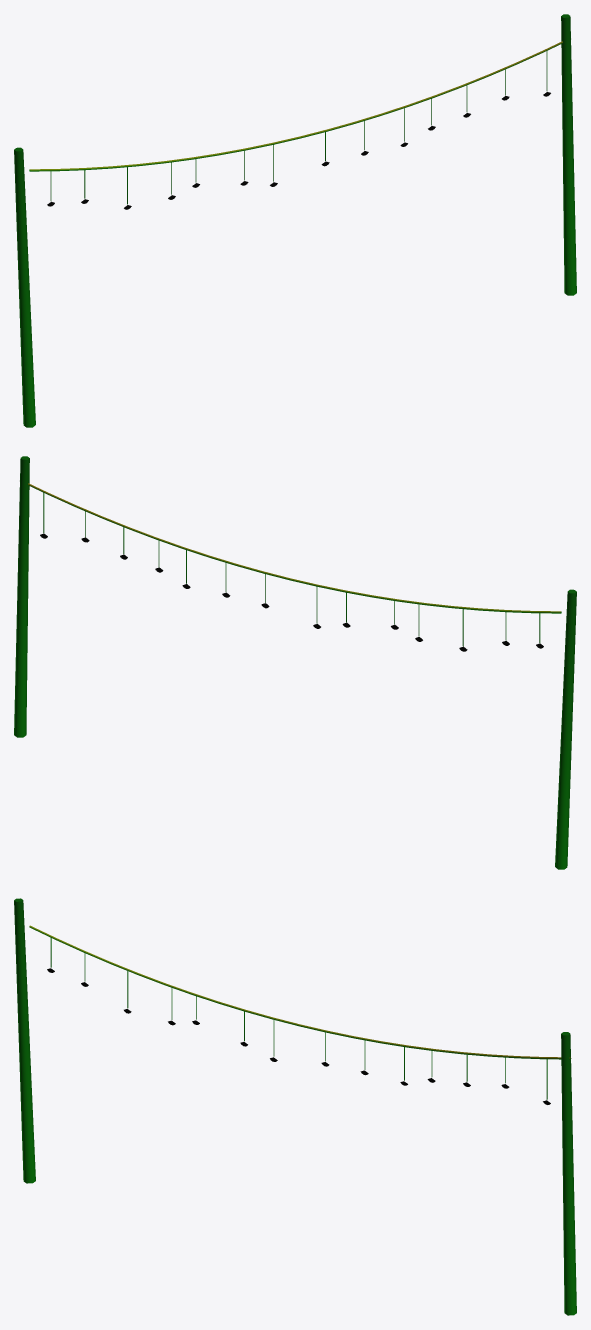
Rendered from name_shell_cord.glb.
3 views of the same model, one above another, from view 1: azimuth 30°, elevation 25°; view 2: azimuth 150°, elevation 25°; view 3: azimuth 330°, elevation 25° (orthographic).
Visible parts, largest first — view 1: name_shell_cord; view 2: name_shell_cord; view 3: name_shell_cord.
Part boxes in pixels (x1,y1,x2,y2): name_shell_cord: (14, 14, 576, 427); name_shell_cord: (14, 456, 576, 869); name_shell_cord: (14, 898, 576, 1315).
Size of what is drawn, in the model's own units: 6.21 by 2.95 by 0.12.
